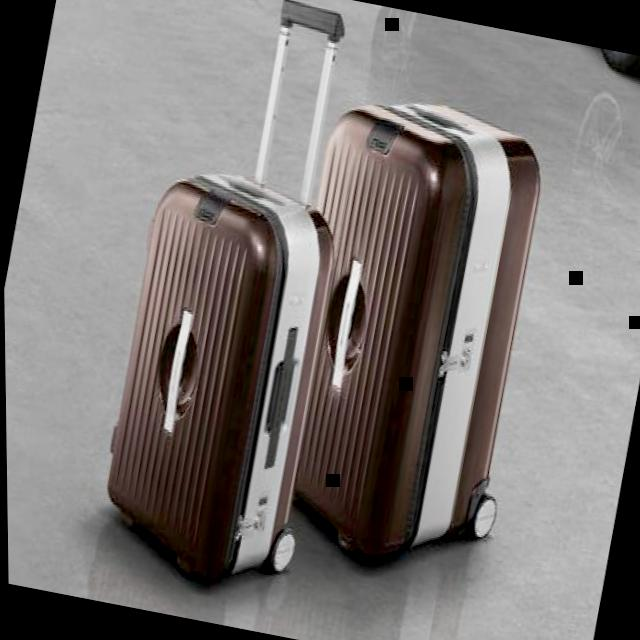luggage: (242, 78, 563, 586), (79, 154, 357, 605)
